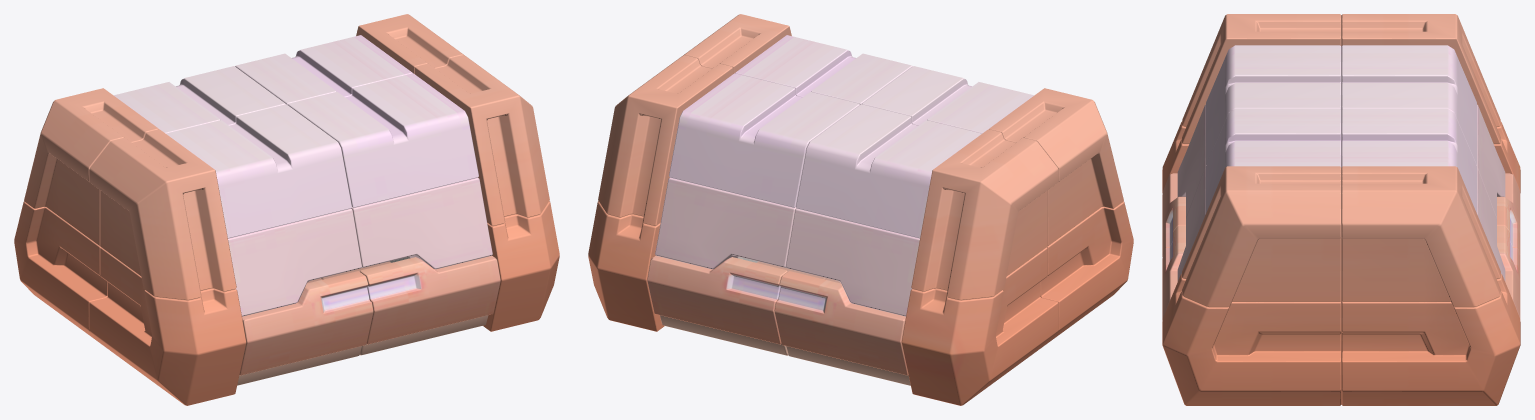
File: level_177.fbx
The picture shows the model from 3 angles, left to right: view 1: azimuth 30°, elevation 25°; view 2: azimuth 150°, elevation 25°; view 3: azimuth 270°, elevation 25°; orthographic projection. The views are drawn at different scales.
Parts seen in each view (by area): view 1: Cube_L3.001, Cube_L1_3.001, Cube_L1_2.001, Cube_L3_3.001, Cube_L3_4.001, Cube_L3_1.001, Cube_L1_1.001, Cube_L1.001, Cube_L2_1.001, Cube_L2.001, Cube_L3_2.001, Cube_L1_5.001 (+5 smaller); view 2: Cube_L3_1.001, Cube_L1_5.001, Cube_L1_4.001, Cube_L3_2.001, Cube_L3_5.001, Cube_L3.001, Cube_L1_7, Cube_L1_6, Cube_L2_3.001, Cube_L2_2.001, Cube_L3_3.001, Cube_L1_3.001 (+5 smaller); view 3: Cube_L3_5.001, Cube_L3_4.001, Cube_L3_7.001, Cube_L3_6.001, Cube_L1_4.001, Cube_L1_2.001, Cube_L1_5.001, Cube_L1_3.001, Cube_L3_1.001, Cube_L3.001, Cube_L1_6, Cube_L1.001 (+8 smaller).
Part boxes in pixels (box(x1,y1,x2,y2)): Cube_L3.001: box(89, 129, 236, 300); Cube_L1_3.001: box(288, 73, 478, 207); Cube_L1_2.001: box(166, 104, 351, 238); Cube_L3_3.001: box(89, 247, 246, 405); Cube_L3_4.001: box(415, 55, 549, 226); Cube_L3_1.001: box(24, 88, 158, 245); Cube_L1_1.001: box(351, 178, 492, 269); Cube_L1.001: box(228, 209, 361, 316); Cube_L2_1.001: box(321, 256, 500, 344); Cube_L2.001: box(239, 271, 373, 375); Cube_L3_2.001: box(14, 201, 108, 349); Cube_L1_5.001: box(235, 35, 412, 104); Cube_L3_1.001: box(911, 129, 1058, 300); Cube_L1_5.001: box(669, 73, 859, 207); Cube_L1_4.001: box(796, 104, 981, 238); Cube_L3_2.001: box(901, 247, 1058, 405); Cube_L3_5.001: box(598, 55, 732, 226); Cube_L3.001: box(989, 88, 1123, 245); Cube_L1_7: box(655, 178, 796, 269); Cube_L1_6: box(786, 209, 919, 316); Cube_L2_3.001: box(647, 256, 826, 344); Cube_L2_2.001: box(774, 271, 908, 375); Cube_L3_3.001: box(1039, 201, 1133, 349); Cube_L1_3.001: box(735, 35, 912, 104); Cube_L3_5.001: box(1341, 166, 1500, 307); Cube_L3_4.001: box(1182, 166, 1341, 307); Cube_L3_7.001: box(1162, 274, 1341, 405); Cube_L3_6.001: box(1341, 274, 1520, 405); Cube_L1_4.001: box(1341, 45, 1476, 164); Cube_L1_2.001: box(1206, 45, 1341, 164); Cube_L1_5.001: box(1341, 108, 1476, 213); Cube_L1_3.001: box(1206, 108, 1341, 213); Cube_L3_1.001: box(1341, 14, 1500, 144); Cube_L3.001: box(1182, 14, 1341, 144); Cube_L1_6: box(1476, 104, 1505, 218); Cube_L1.001: box(1177, 104, 1206, 218).
Bounding box in the file's own units: 13.2 × 6.69 × 10.05.
